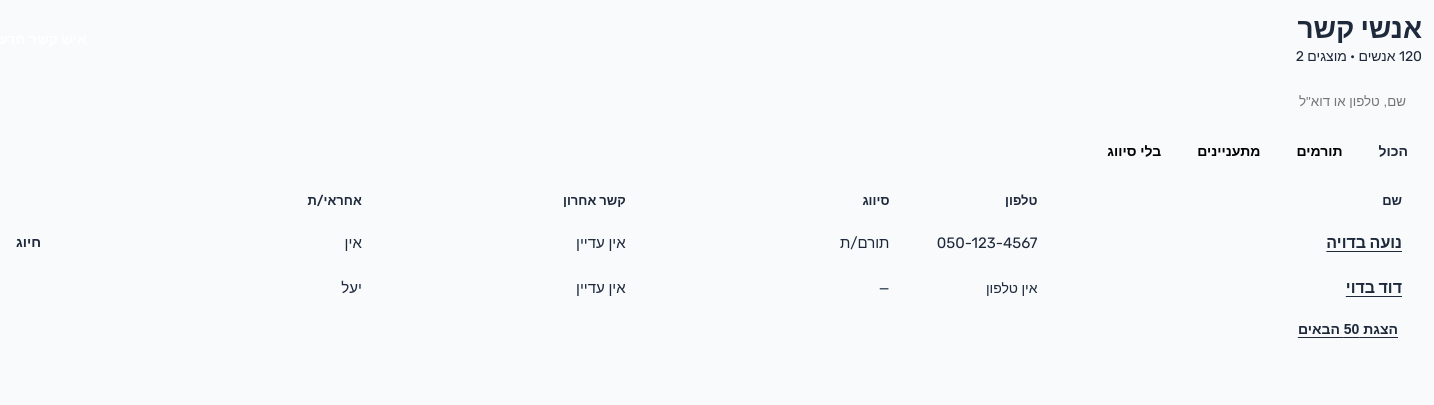
Test: MgmtContactsPage › loads the next page by offset and appends it
Check: the link "נועה בדויה" is shown, box [1326,233,1402,252]
Click the button "הצגת 50 הבאים".
click(1348, 329)  # box [1294,312,1402,346]
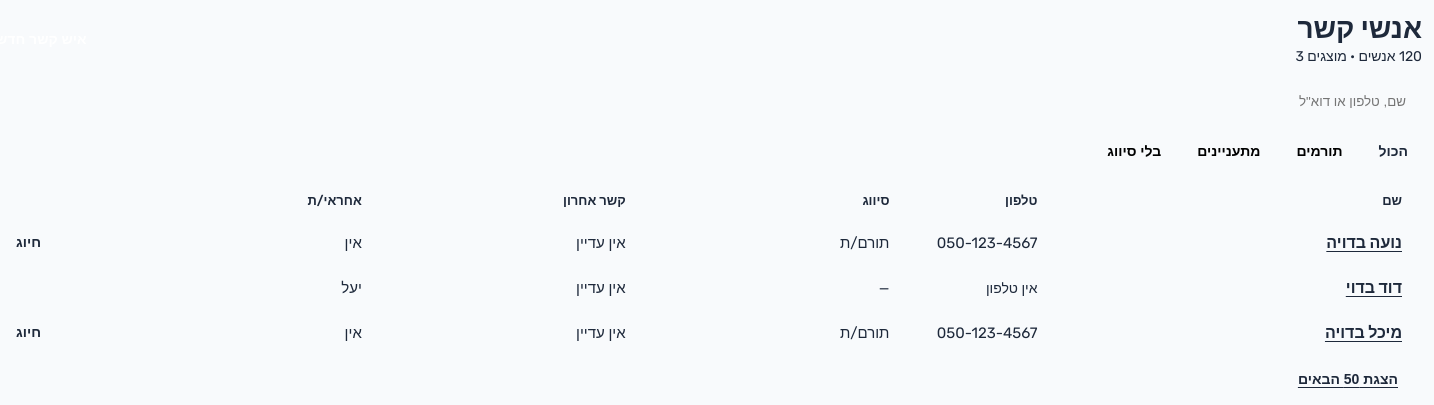
Check: the link "נועה בדויה" is shown, box [1326,233,1402,252]
Check: the link "מיכל בדויה" is shown, box [1325,323,1402,342]
Check: the text "120 אנשים · מוצגים 3" is shown, box [1295,48,1422,65]
